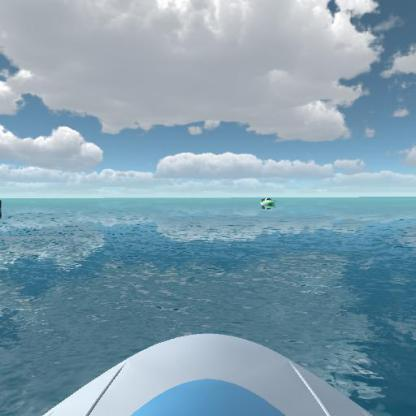usv0: (257, 192, 280, 209)
